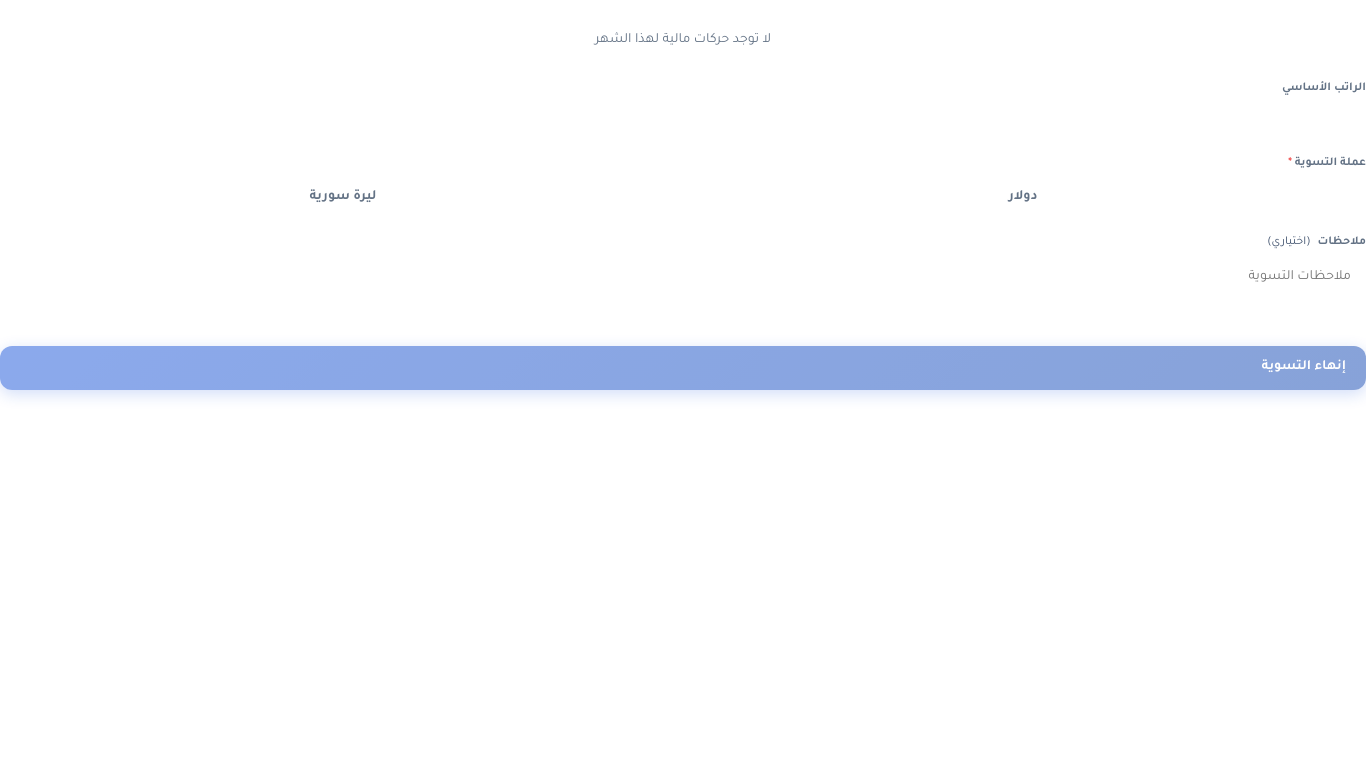
Test case: SettlementDraftView › shows a generic finalize-failed message (not the conflict message) for an unrelated finalize error
The width and height of the screenshot is (1366, 768).
Click the button with test id "currency-usd": (1023, 198) [685,181,1361,214]
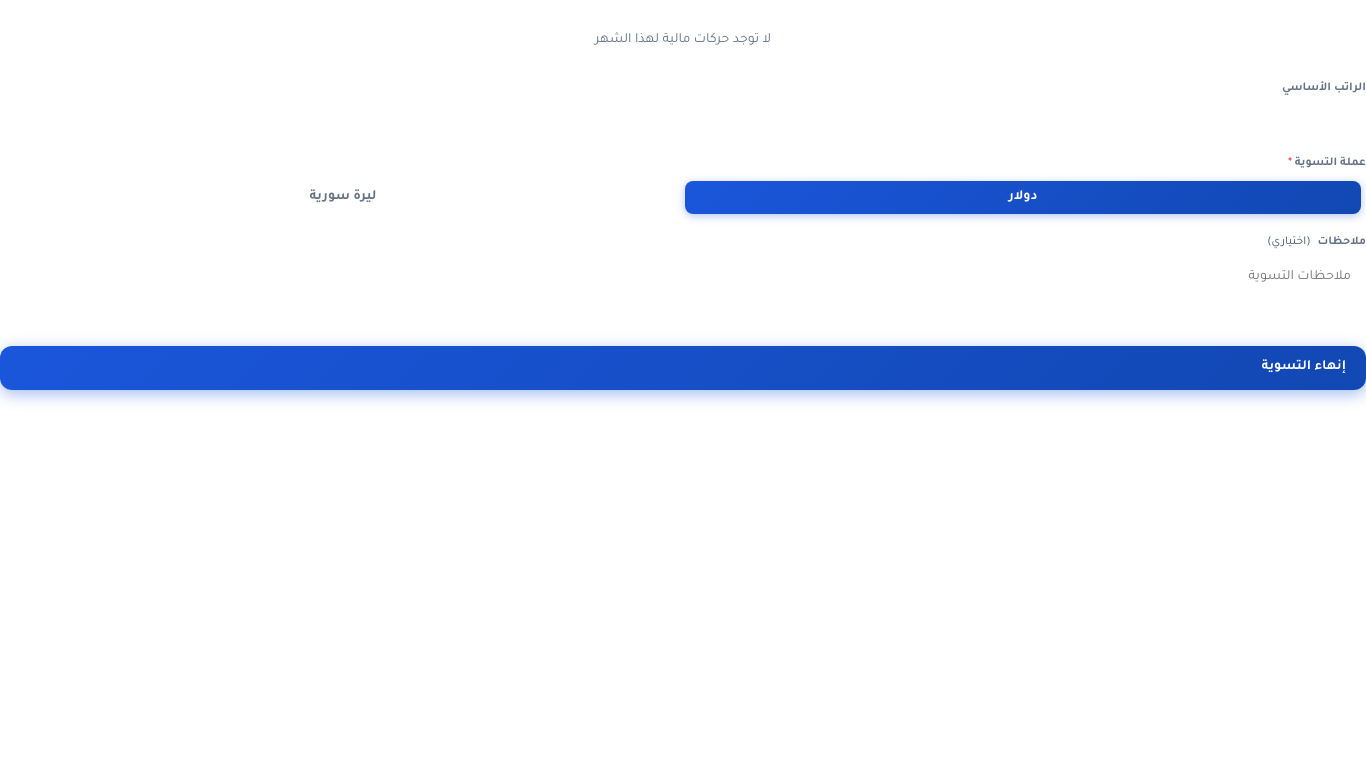
Click the button with test id "finalize-button": (1304, 367) [0,346,1365,390]
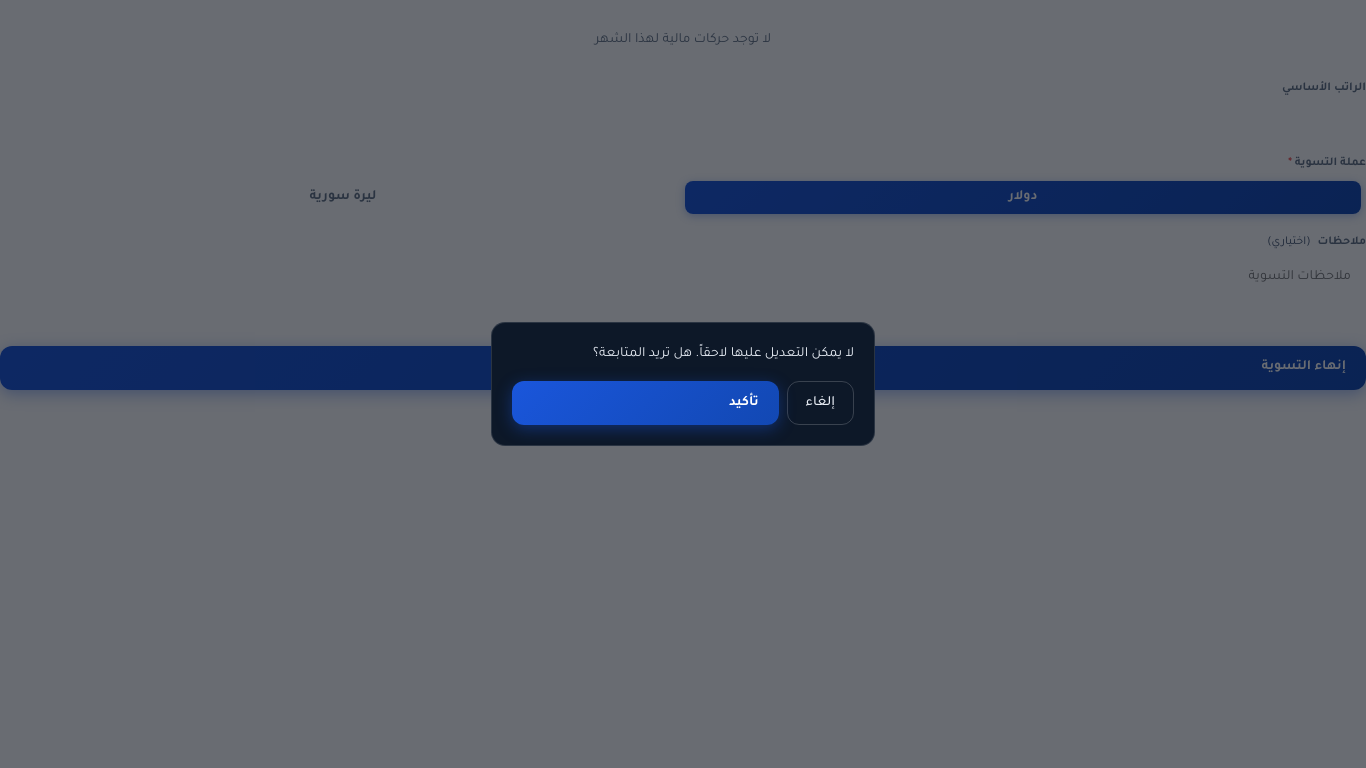
Click the button with test id "confirm-finalize-button": (744, 403) [512,381,779,425]
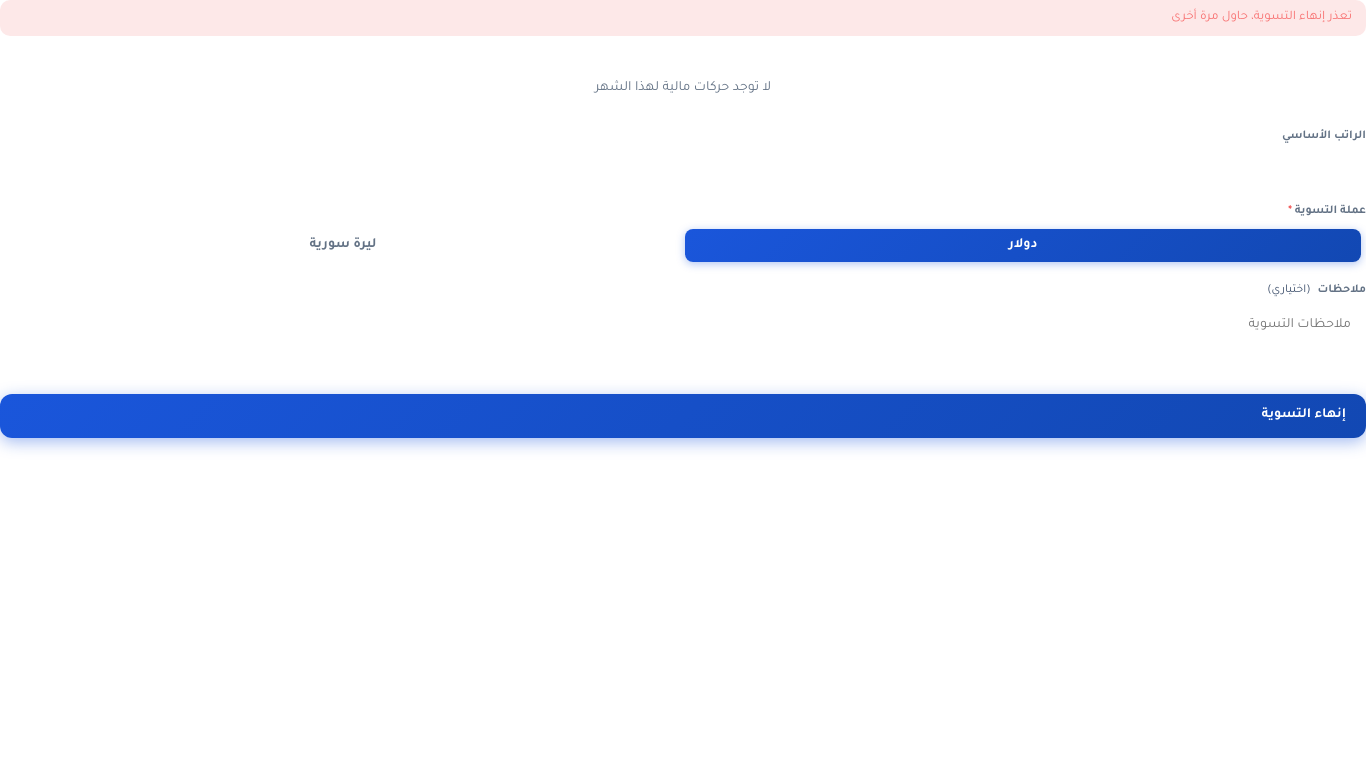
Check: the text "تعذر إنهاء التسوية، حاول مرة أخرى" is shown, box [0,0,1365,36]
Check: the text "تعذر إنهاء التسوية" is shown, box [1171,11,1352,24]
